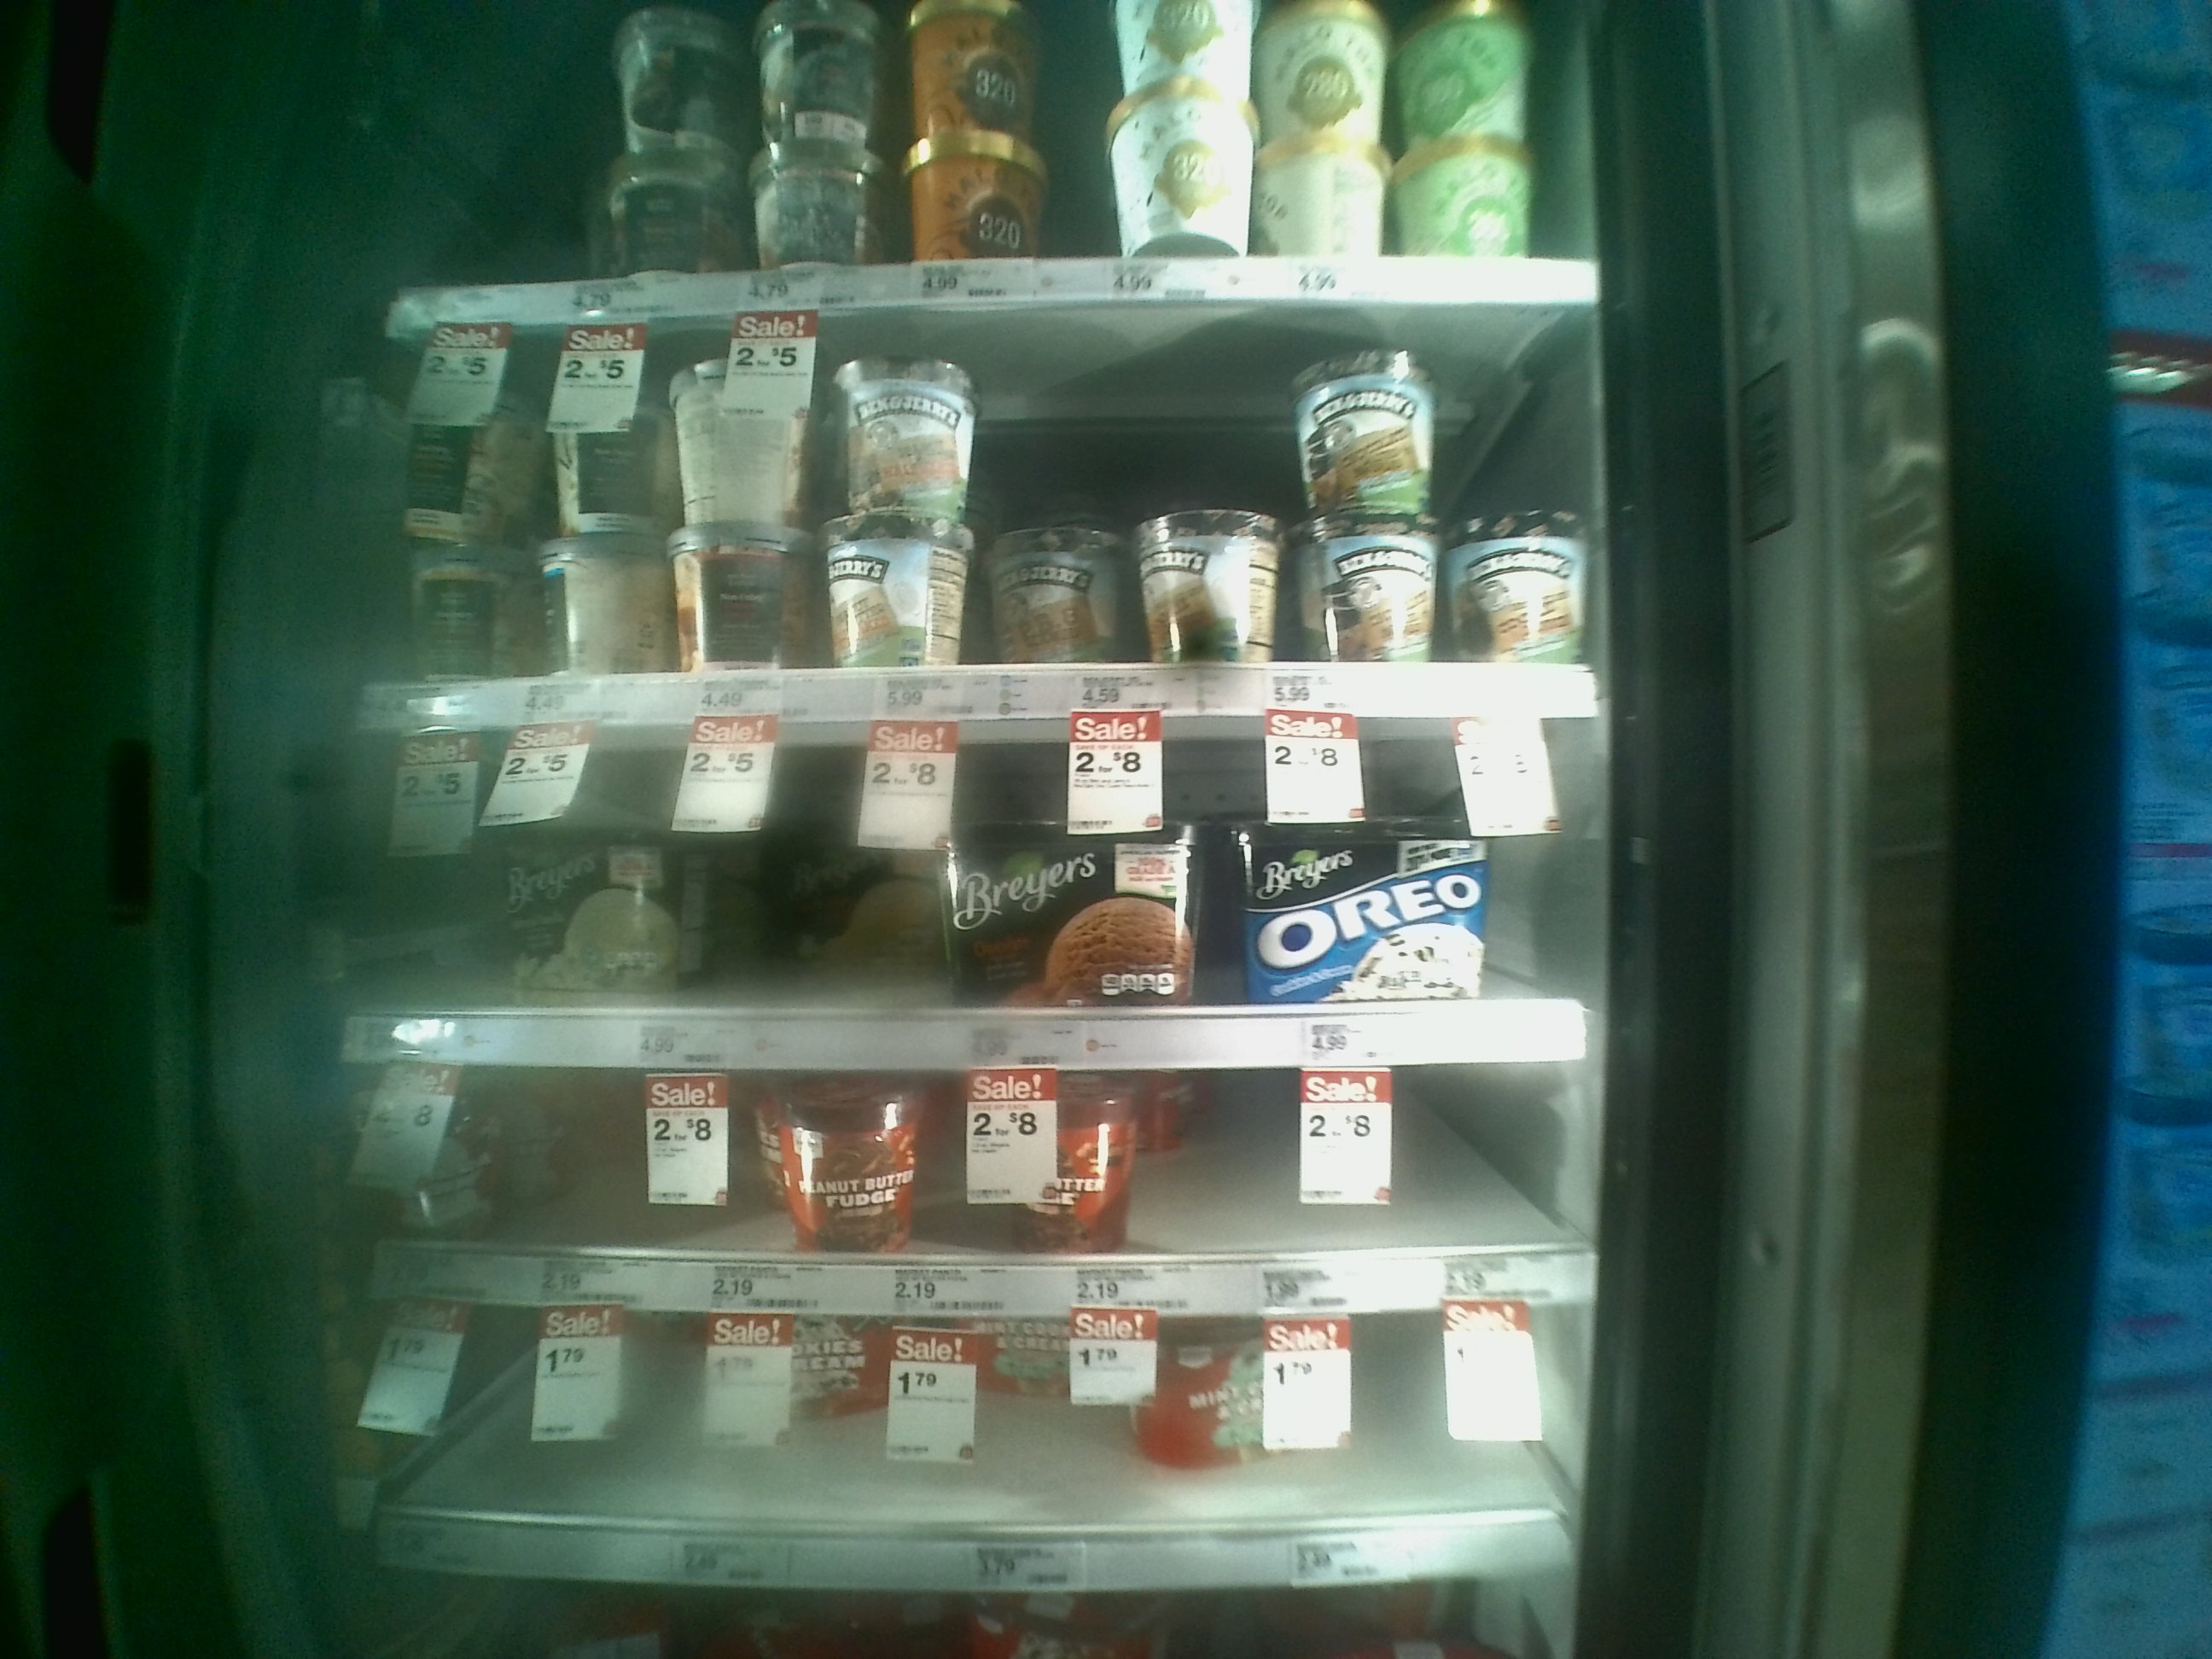shelf: (369, 305, 1606, 721), (355, 716, 1606, 1042), (364, 1298, 1581, 1605), (366, 1053, 1594, 1305)
